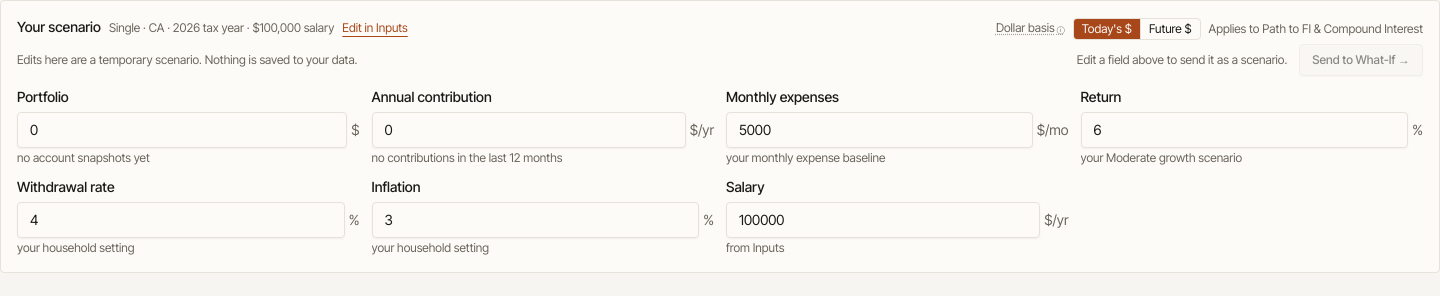
Test case: ScenarioBar — Send-to-What-If handoff (Wave C C11/DC6) › Wave C review (MINOR 5): a Return-only edit keeps Send disabled with the no-lever reason
The width and height of the screenshot is (1440, 296).
Replace the text in the number field labelled "Return" with "9" at (1244, 130), box [1080,112,1408,148]
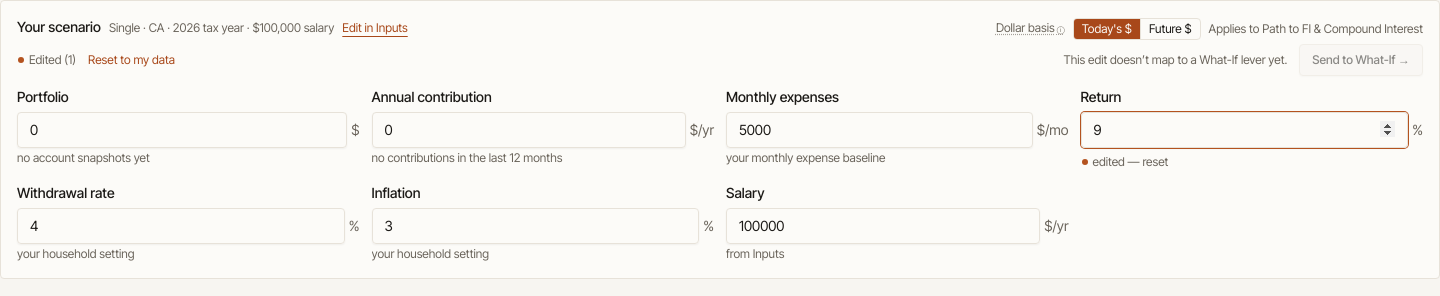
Expected: the button "Send to What-If →" is disabled, [1299,44,1423,76]
Now the element with test id "scenario-edited-count" reads "Edited (1)", box [17,52,76,68]
